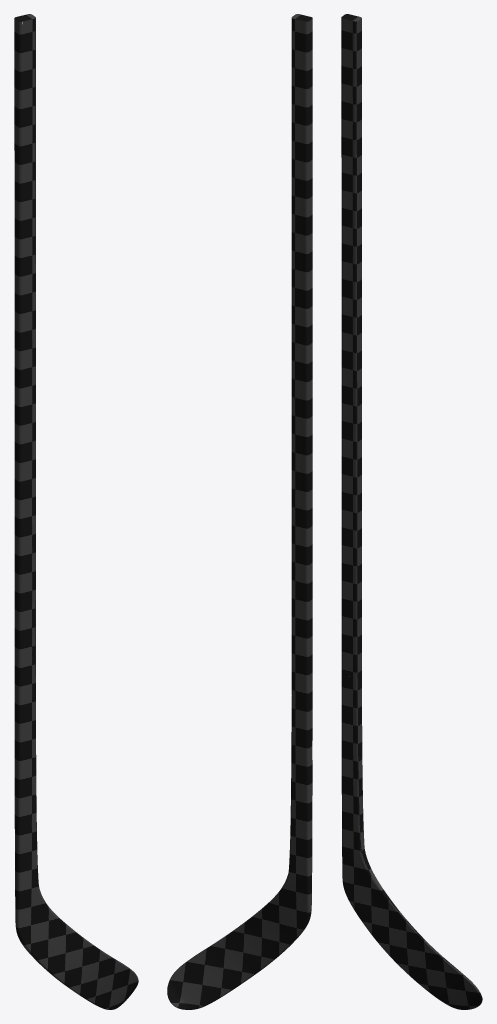
File: YAK-65-ST.glb
3 renders of one model, left to right at view 1: azimuth 30°, elevation 25°; view 2: azimuth 150°, elevation 25°; view 3: azimuth 330°, elevation 25°, orthographic. The views are drawn at different scales.
Parts seen in each view (by area): view 1: geometry_0; view 2: geometry_0; view 3: geometry_0.
Boxes of the visible parts, <box> form: geometry_0: <box>14,14,138,1009</box>; geometry_0: <box>167,14,312,1009</box>; geometry_0: <box>341,14,482,1009</box>.
Size of the model in its own units: 225 by 1650 by 55.36.
Materials: 1 (1 with a texture image).
